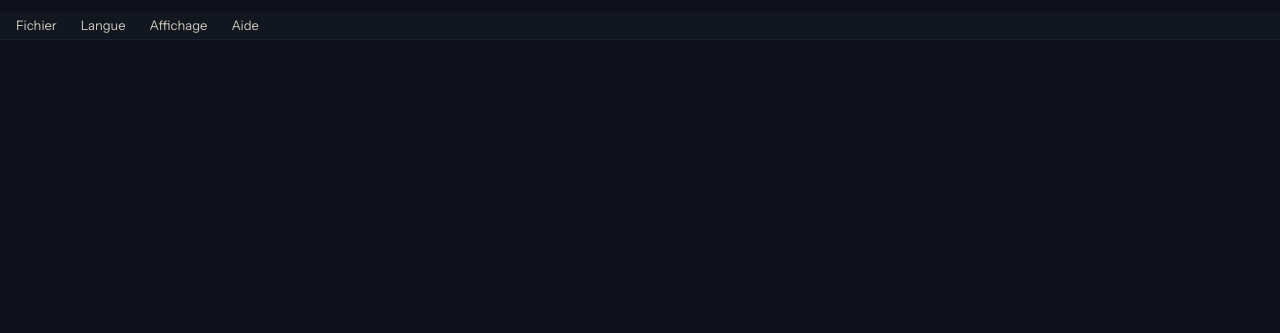
Test case: MenuBar › moves between menus with the left/right arrow keys
Step 1. Click the menu item "Fichier" → coordinates (36, 26), box [4, 12, 69, 40]
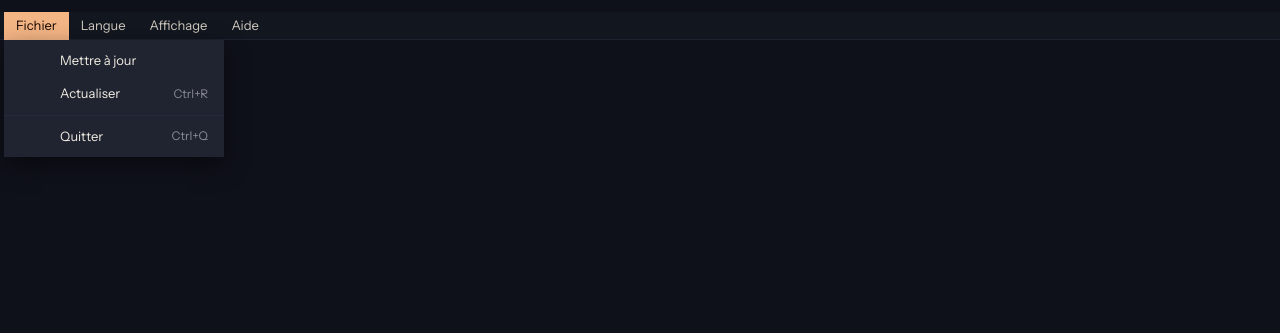
Step 2. Press ArrowRight
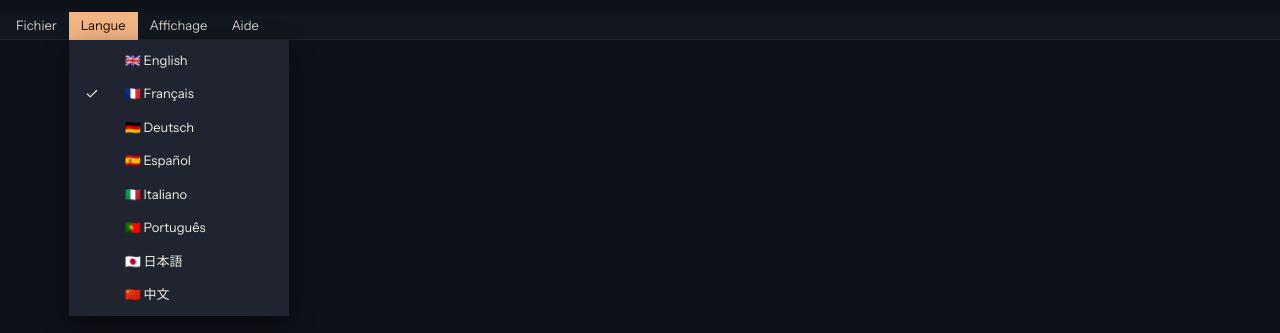
Check: the menu named "Langue" is shown, box [69, 40, 289, 316]
Step 3. Press ArrowLeft
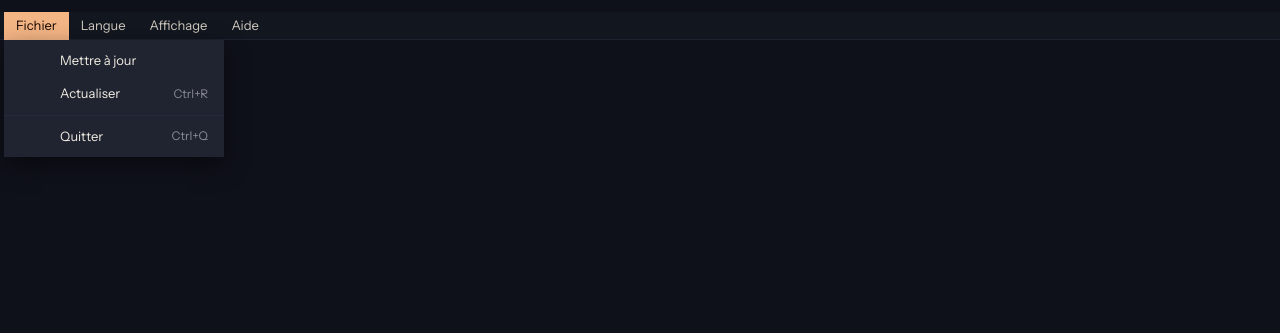
Step 4. Press ArrowLeft
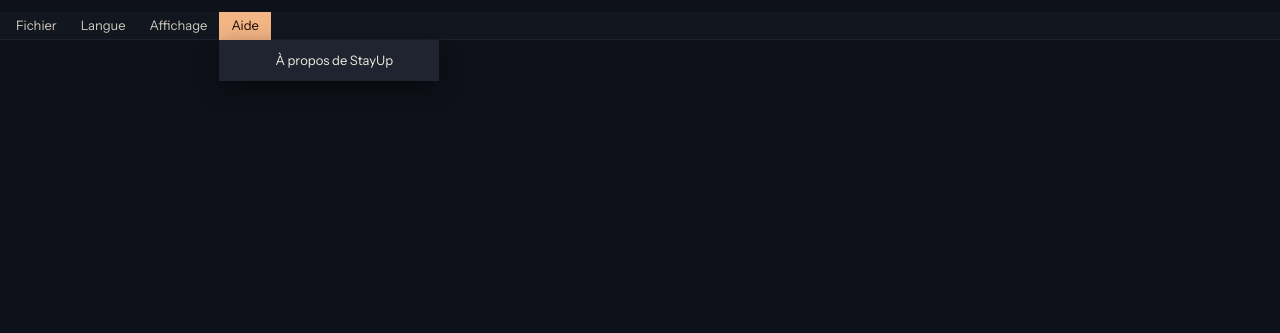
Check: the menu named "Aide" is shown, box [219, 40, 439, 81]
